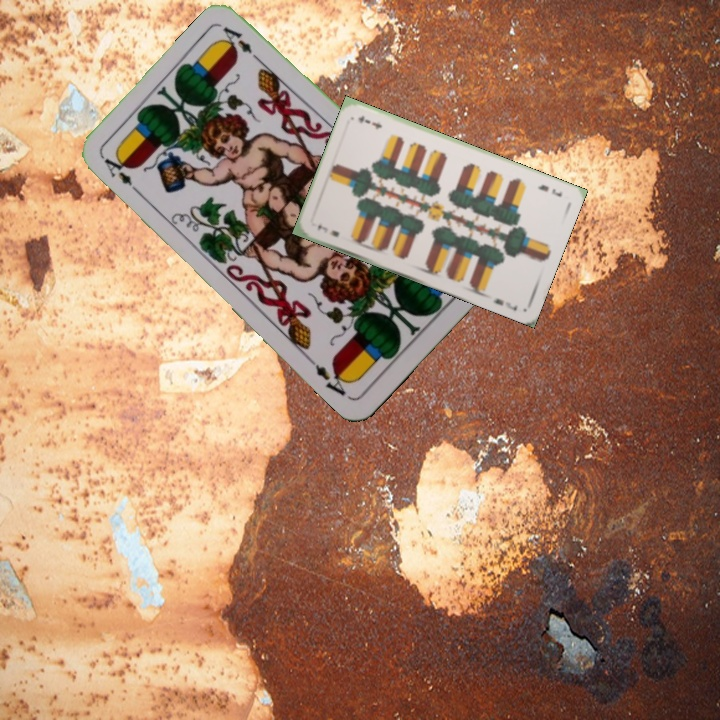E7: (534, 180, 564, 199), (313, 221, 342, 239)
EA: (98, 153, 145, 199)
